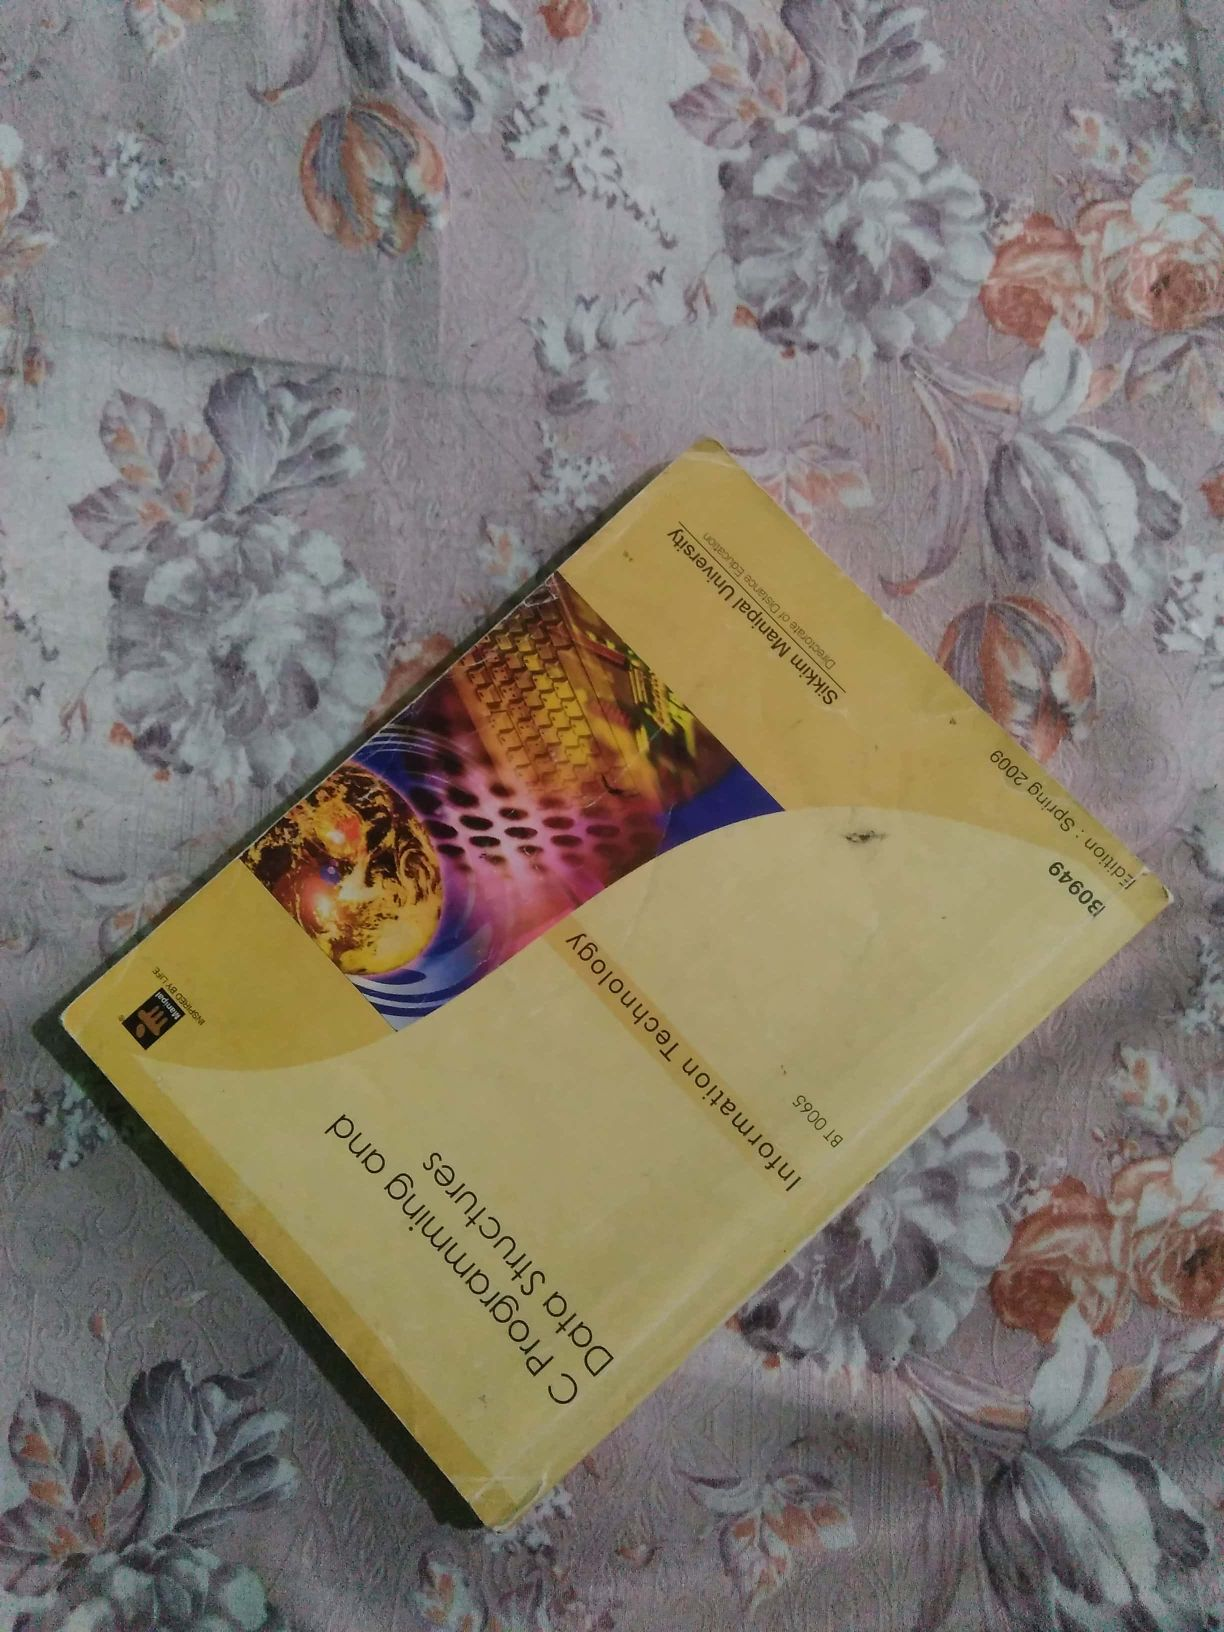clang: (80, 475, 1205, 1536)
